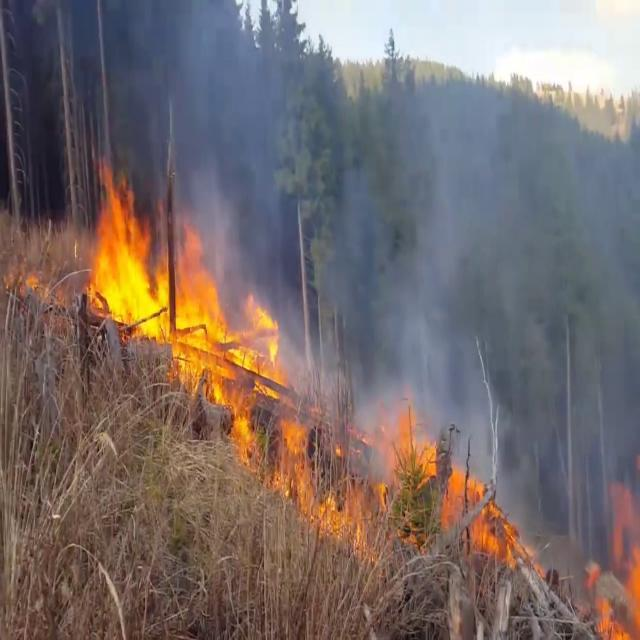Fire: (84, 160, 288, 412), (268, 402, 370, 554), (441, 454, 539, 578), (587, 445, 640, 639), (378, 382, 442, 497)
Smoke: (311, 2, 640, 555), (74, 0, 297, 262)
